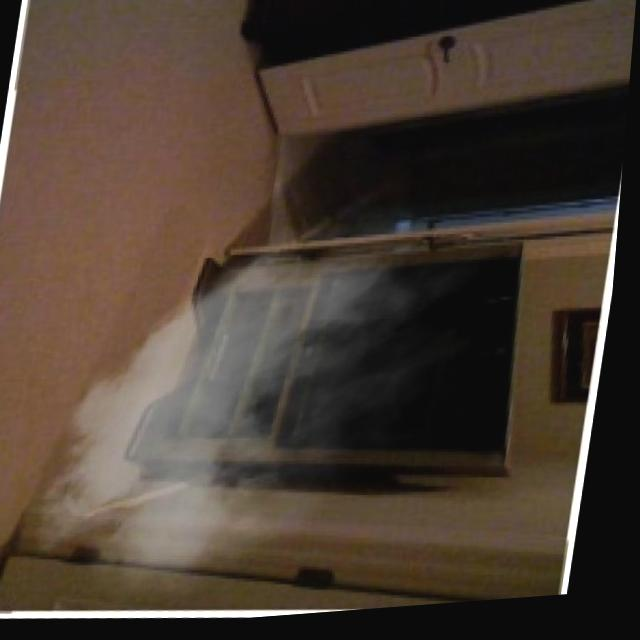Smoke: (16, 198, 495, 620)
